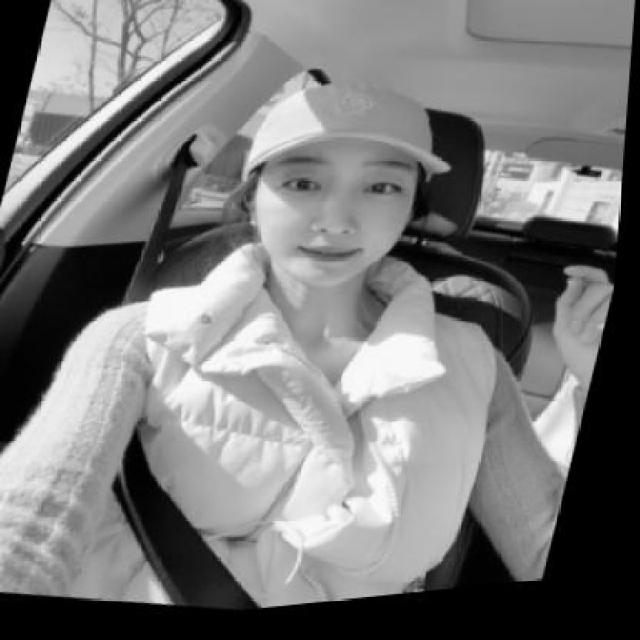hat: (235, 66, 468, 229)
